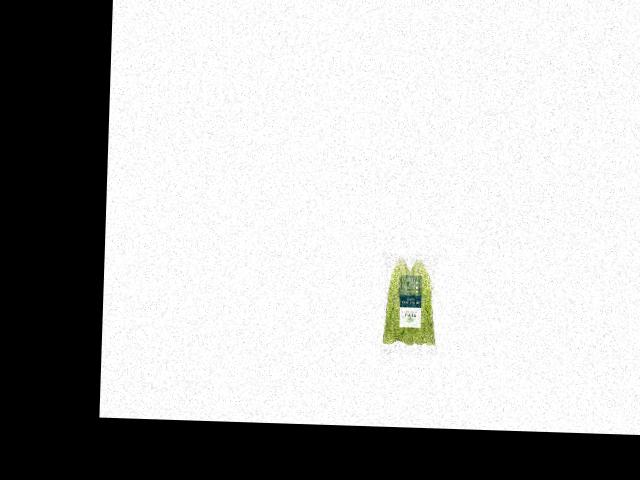lettuce: (375, 256, 438, 349)
